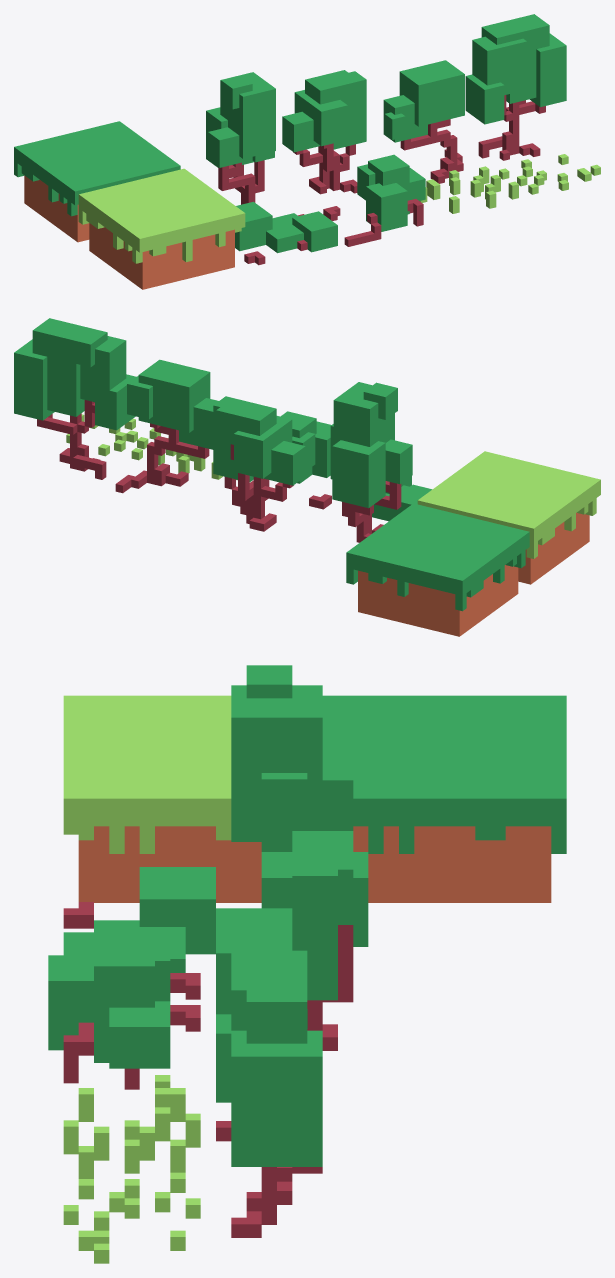
File: organic_objects_v2.glb
3 views of the same model, one above another, from view 1: azimuth 30°, elevation 25°; view 2: azimuth 150°, elevation 25°; view 3: azimuth 270°, elevation 25° (orthographic). The views are drawn at different scales.
Parts seen in each view (by area): view 1: ObjObject.004, ObjObject, ObjObject.009, ObjObject.006, ObjObject.008, ObjObject.007, ObjObject.001, ObjObject.002, ObjObject.005, ObjObject.003; view 2: ObjObject.009, ObjObject, ObjObject.004, ObjObject.008, ObjObject.006, ObjObject.007, ObjObject.001, ObjObject.003, ObjObject.002, ObjObject.005; view 3: ObjObject.009, ObjObject.004, ObjObject, ObjObject.008, ObjObject.001, ObjObject.006, ObjObject.002, ObjObject.005, ObjObject.007, ObjObject.003.
Boxes of the visible parts, box(x1,y1,x2,y2) form: ObjObject.004: box(78, 168, 245, 289); ObjObject: box(465, 14, 566, 160); ObjObject.009: box(14, 121, 180, 242); ObjObject.006: box(282, 70, 366, 194); ObjObject.008: box(206, 72, 275, 204); ObjObject.007: box(383, 60, 464, 183); ObjObject.001: box(323, 154, 425, 246); ObjObject.002: box(235, 201, 337, 265); ObjObject.005: box(419, 166, 518, 213); ObjObject.003: box(499, 154, 600, 194); ObjObject.009: box(346, 503, 529, 636); ObjObject: box(14, 318, 136, 479); ObjObject.004: box(417, 451, 600, 584); ObjObject.008: box(330, 382, 412, 542); ObjObject.006: box(213, 396, 305, 531); ObjObject.007: box(115, 359, 218, 493); ObjObject.001: box(280, 411, 331, 509); ObjObject.003: box(66, 414, 160, 460); ObjObject.002: box(372, 476, 432, 521); ObjObject.005: box(158, 438, 237, 480); ObjObject.009: box(322, 695, 566, 902); ObjObject.004: box(63, 695, 261, 902); ObjObject: box(216, 950, 322, 1237); ObjObject.008: box(231, 665, 353, 851); ObjObject.001: box(48, 940, 200, 1089); ObjObject.006: box(261, 831, 368, 1050); ObjObject.002: box(63, 867, 215, 999); ObjObject.005: box(63, 1075, 200, 1178); ObjObject.007: box(216, 908, 322, 1173); ObjObject.003: box(63, 1172, 200, 1263).
Bounding box in the file's own units: 710 × 200 × 340.
10 materials, 10 textured.
